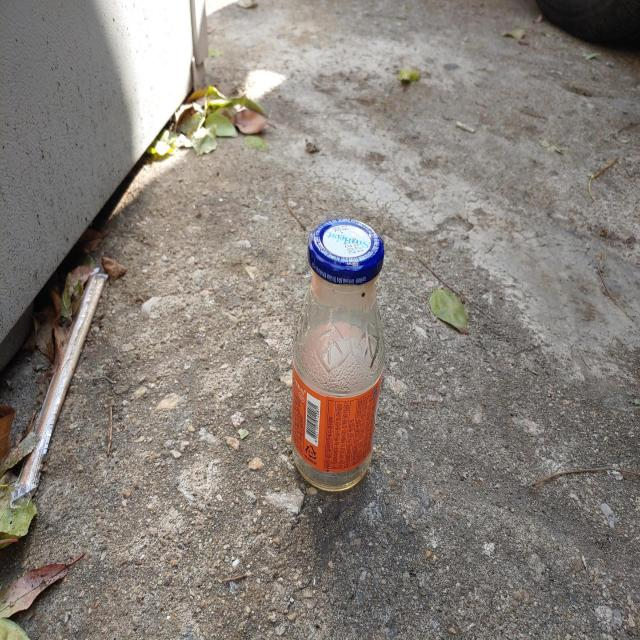glass: (291, 218, 385, 491)
